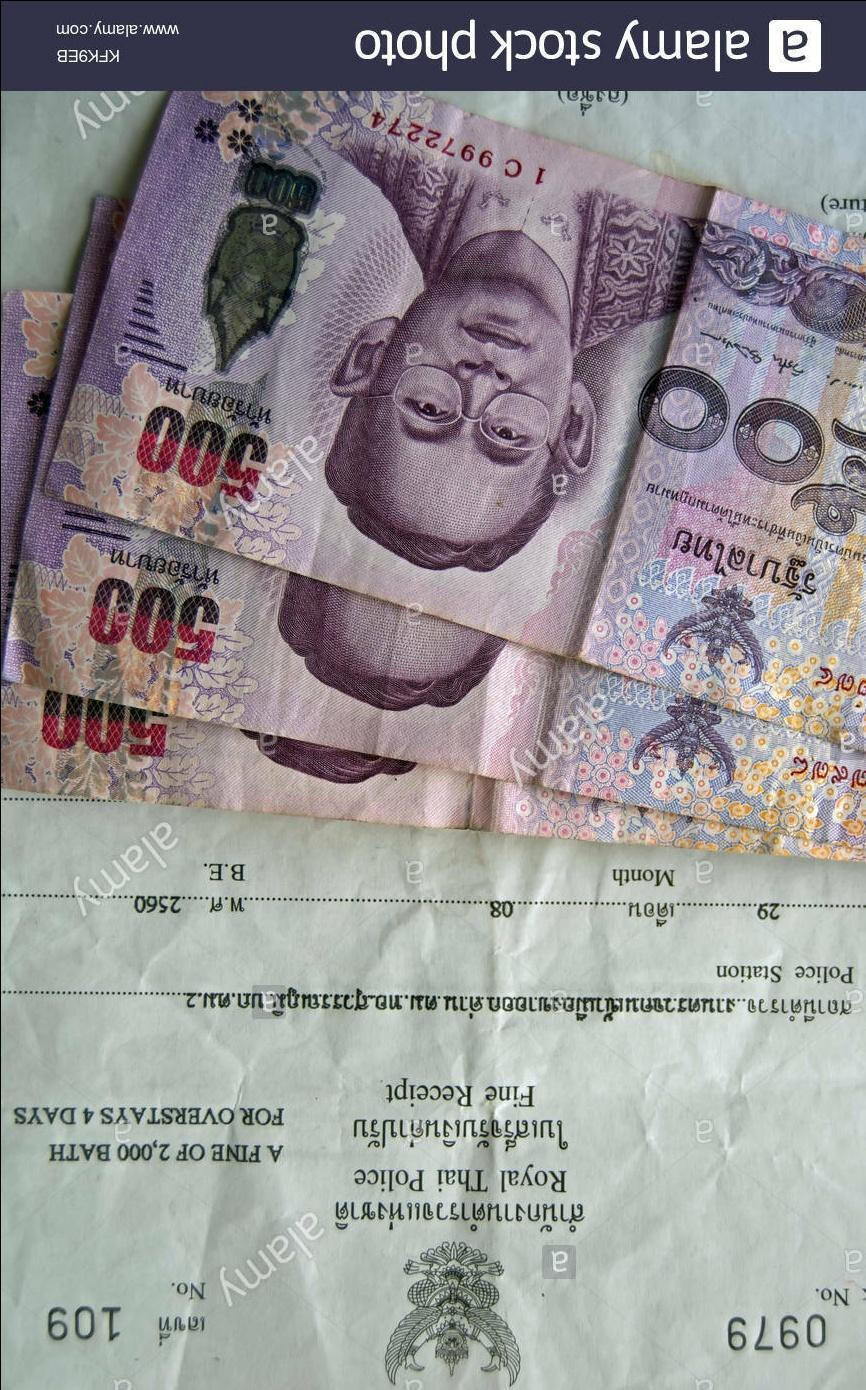500BahtTai: (68, 122, 866, 698)
